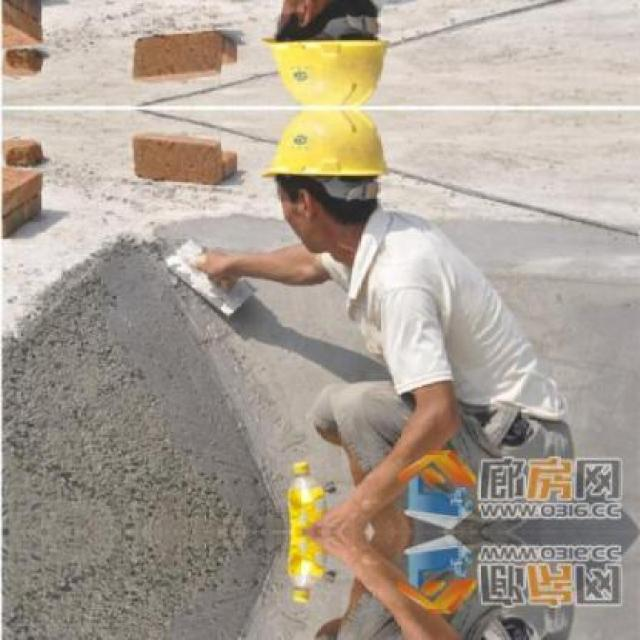helmet: (252, 106, 401, 247), (250, 0, 401, 109)
